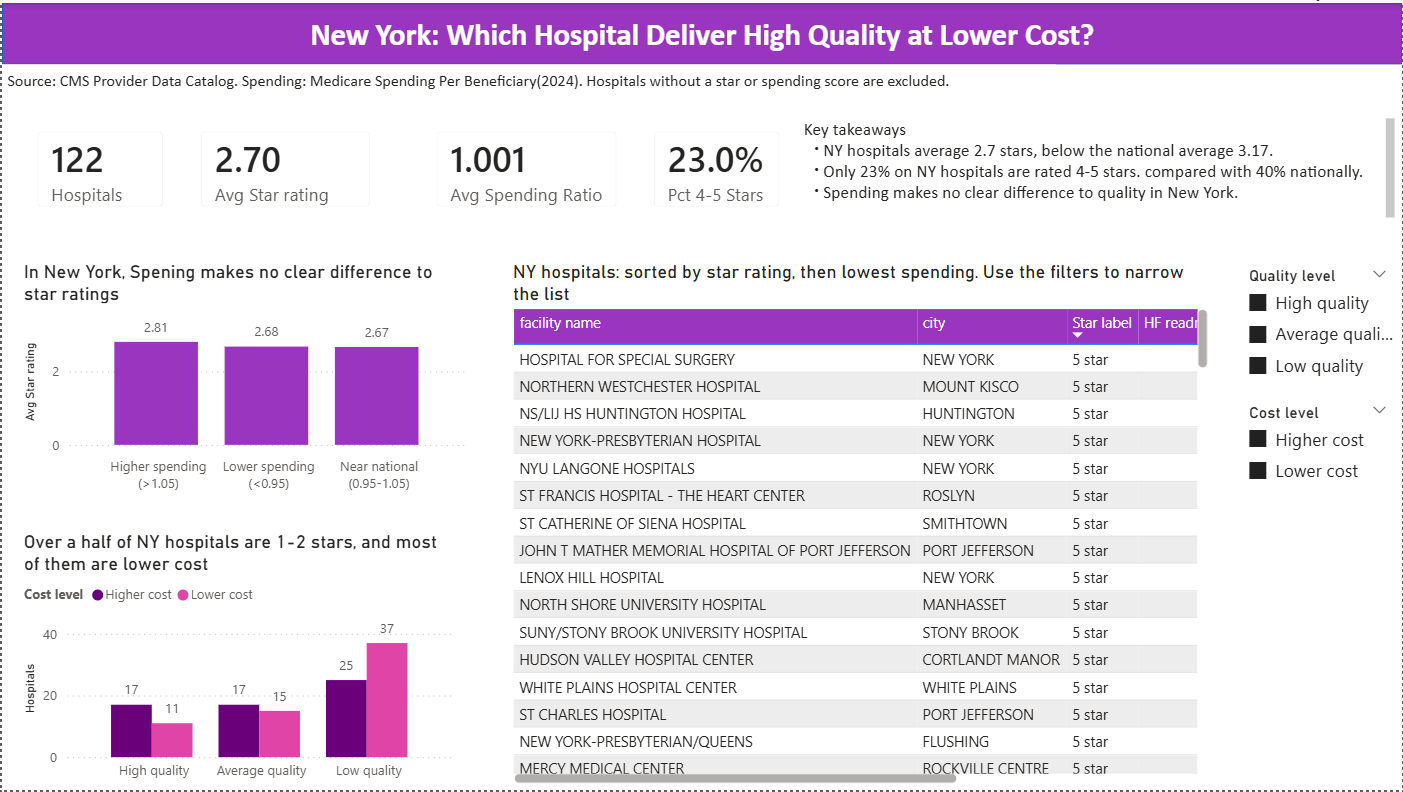

Layout of this report page (visuals, bound fields, positions):
{"tool":"powerbi","page":{"name":"New York State","canvas":[1280,720],"ordinal":1},"visuals":[{"type":"cardVisual","fields":{"Data":["Hospital_Analysis.Hospitals"]},"box":[14.5,99.8,149.7,103],"z":0},{"type":"cardVisual","fields":{"Data":["Hospital_Analysis.Avg Star rating"]},"box":[164.2,99.8,189.9,103],"z":1000},{"type":"cardVisual","fields":{"Data":["Hospital_Analysis.Avg Spending Ratio"]},"box":[379.8,99.8,199.6,103],"z":2000},{"type":"cardVisual","fields":{"Data":["Hospital_Analysis.Pct 4-5 Stars"]},"box":[579.4,99.8,149.7,103],"z":3000},{"type":"clusteredColumnChart","title":"In New York, Spening makes no clear difference to star ratings","fields":{"Y":["Hospital_Analysis.Avg Star rating"],"Category":["Hospital_Analysis.spending_group"]},"box":[14.5,236.6,415.2,218.9],"z":4000},{"type":"clusteredColumnChart","title":"Over a half of NY hospitals are 1-2 stars, and most of them are lower cost","fields":{"Series":["Hospital_Analysis.Cost level"],"Y":["Hospital_Analysis.Hospitals"],"Category":["Hospital_Analysis.Quality level"]},"box":[14.5,482.8,404,236.6],"z":5002},{"type":"tableEx","title":"NY hospitals: sorted by star rating, then lowest spending. Use the filters to narrow the list","fields":{"Values":["Hospital_Analysis.facility_name","Hospital_Analysis.city","Hospital_Analysis.Star label","Hospital_Analysis.readm_heart_failure","Hospital_Analysis.Quality level","Hospital_Analysis.Cost level","Hospital_Analysis.mspb_score"]},"box":[461.9,236.6,645.4,482.8],"z":5003},{"type":"slicer","fields":{"Values":["Hospital_Analysis.Quality level"]},"box":[1128.2,236.6,151.3,123.9],"z":5004},{"type":"slicer","fields":{"Values":["Hospital_Analysis.Cost level"]},"box":[1128.2,360.5,151.3,95],"z":5005},{"type":"shape","box":[0,0,1281.1,56.3],"z":5006},{"type":"textbox","box":[1128,456,151,264],"z":5007},{"type":"textbox","box":[729.1,99.8,550.4,103],"z":5008},{"type":"textbox","box":[0,56.3,964,43.5],"z":5009}]}

Visuals, with their boxes in screenshot pixels (x1, y1, x2, y2), scaled from the page's 1280x720 canvas onto the 1403x792 screenshot:
cardVisual - Hospital_Analysis.Hospitals: 16/110/180/223
cardVisual - Hospital_Analysis.Avg Star rating: 180/110/388/223
cardVisual - Hospital_Analysis.Avg Spending Ratio: 416/110/635/223
cardVisual - Hospital_Analysis.Pct 4-5 Stars: 635/110/799/223
"In New York, Spening makes no clear difference to star ratings" clusteredColumnChart: 16/260/471/501
"Over a half of NY hospitals are 1-2 stars, and most of them are lower cost" clusteredColumnChart: 16/531/459/791
"NY hospitals: sorted by star rating, then lowest spending. Use the filters to narrow the list" tableEx: 506/260/1214/791
slicer - Hospital_Analysis.Quality level: 1237/260/1402/397
slicer - Hospital_Analysis.Cost level: 1237/397/1402/501
shape: 0/0/1402/62
textbox: 1236/502/1402/791
textbox: 799/110/1402/223
textbox: 0/62/1057/110
